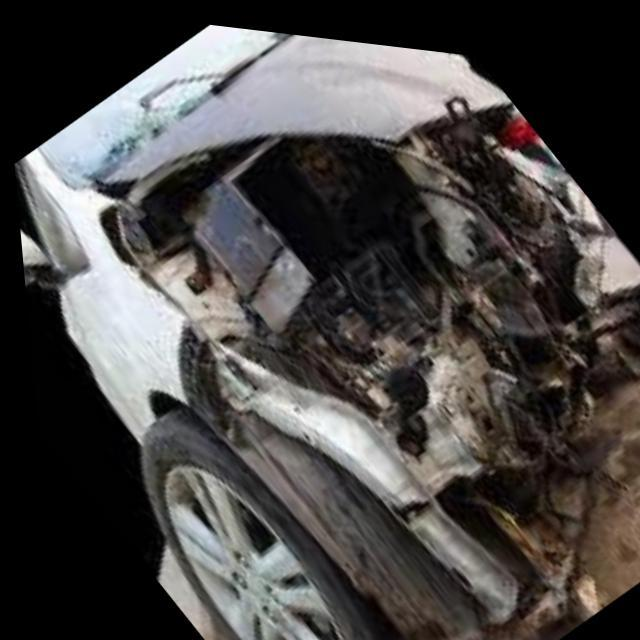crash: (24, 20, 640, 640)
